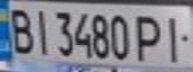0: (109, 10, 133, 61)
3: (51, 7, 72, 57)
4: (69, 8, 93, 59)
8: (90, 10, 112, 60)
B: (3, 3, 36, 55)
I: (157, 10, 193, 63), (27, 6, 54, 56)
P: (133, 10, 166, 63)
